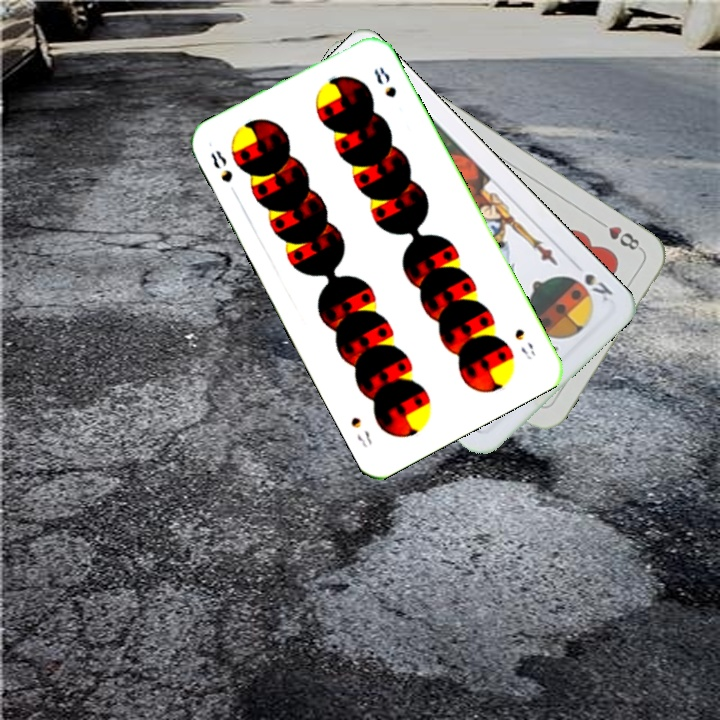H8: (592, 215, 645, 253)
S8: (206, 146, 235, 185), (511, 325, 537, 363)
SK: (580, 269, 616, 305)
